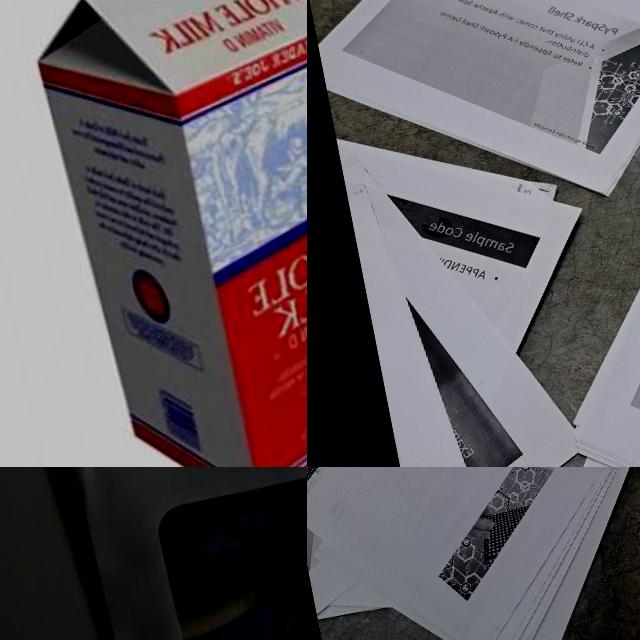caixinha: (18, 0, 307, 467)
papel: (336, 90, 640, 467), (307, 0, 640, 247), (307, 467, 640, 640), (62, 467, 307, 640), (533, 154, 640, 467)
